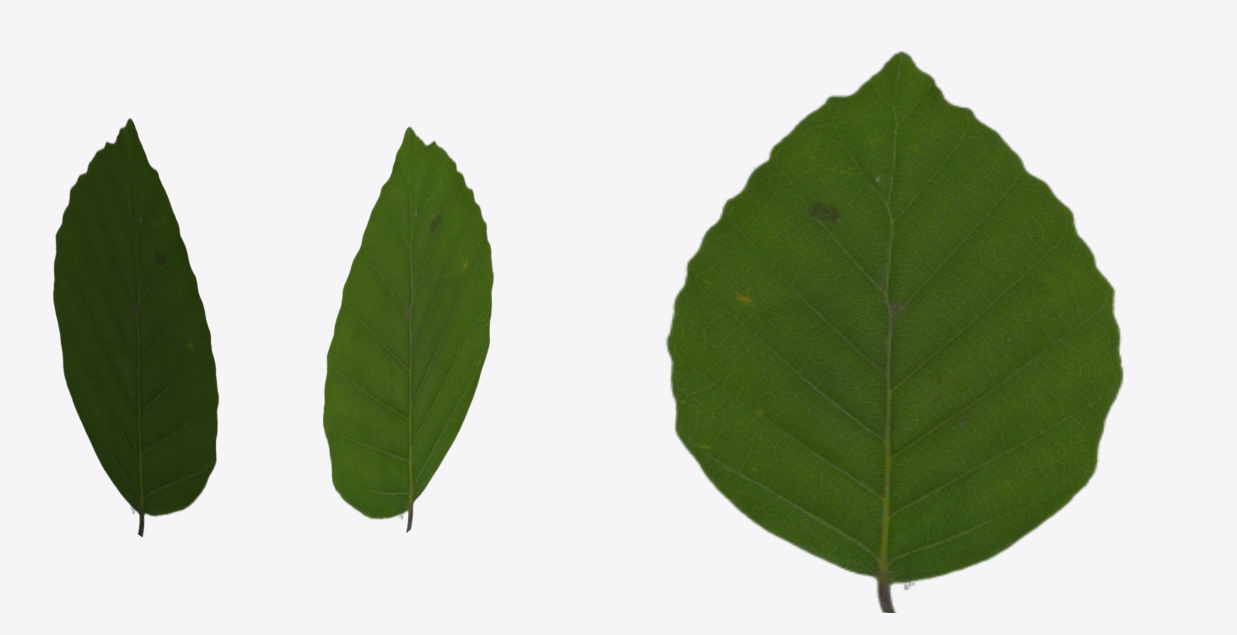
Rendered from beechLeaf.glb.
3 renders of one model, left to right at view 1: azimuth 30°, elevation 25°; view 2: azimuth 150°, elevation 25°; view 3: azimuth 270°, elevation 25°, orthographic. The views are drawn at different scales.
Visible parts, largest first — view 1: Leaf; view 2: Leaf; view 3: Leaf.
Part boxes in pixels (bbox=[...]): Leaf: bbox=[53, 118, 218, 537]; Leaf: bbox=[323, 126, 493, 532]; Leaf: bbox=[666, 51, 1123, 612].
Bounding box in the file's own units: 0.00741 × 0.3222 × 0.3222.
Materials: 1 (1 with a texture image).
